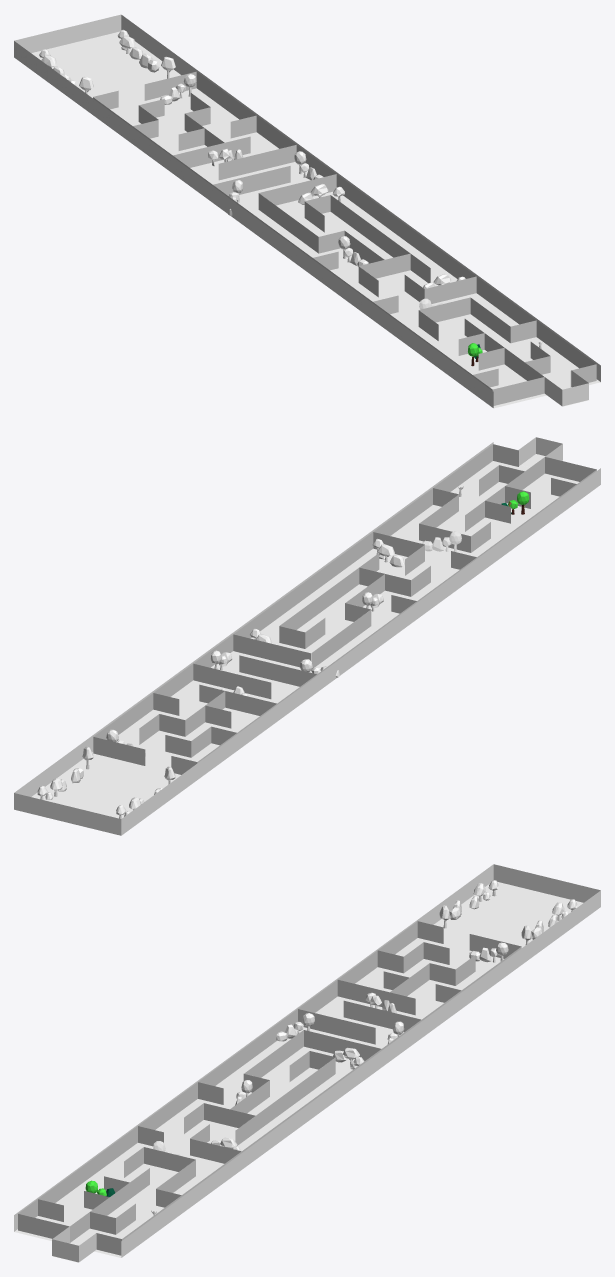
Rendered from Level3World.glb.
3 renders of one model, top to bottom at view 1: azimuth 30°, elevation 25°; view 2: azimuth 150°, elevation 25°; view 3: azimuth 330°, elevation 25°, orthographic.
Visible parts, largest first — view 1: Floor, Maze_Inside_Walls, Miniroom; view 2: Floor, Maze_Inside_Walls, Miniroom; view 3: Floor, Maze_Inside_Walls, Maze__Outside_Walls, Miniroom.
Part boxes in pixels (box(x1,y1,x2,y2)): Floor: box(14, 14, 600, 408); Maze_Inside_Walls: box(93, 71, 596, 405); Miniroom: box(544, 370, 588, 406); Floor: box(14, 442, 600, 835); Maze_Inside_Walls: box(93, 444, 596, 774); Miniroom: box(518, 437, 562, 465); Floor: box(14, 864, 600, 1257); Maze_Inside_Walls: box(18, 921, 521, 1255); Maze__Outside_Walls: box(18, 921, 521, 1240); Miniroom: box(52, 1226, 96, 1262).
Size of the model in its own units: 34.12 by 7 by 268.
9 materials, 1 textured.
